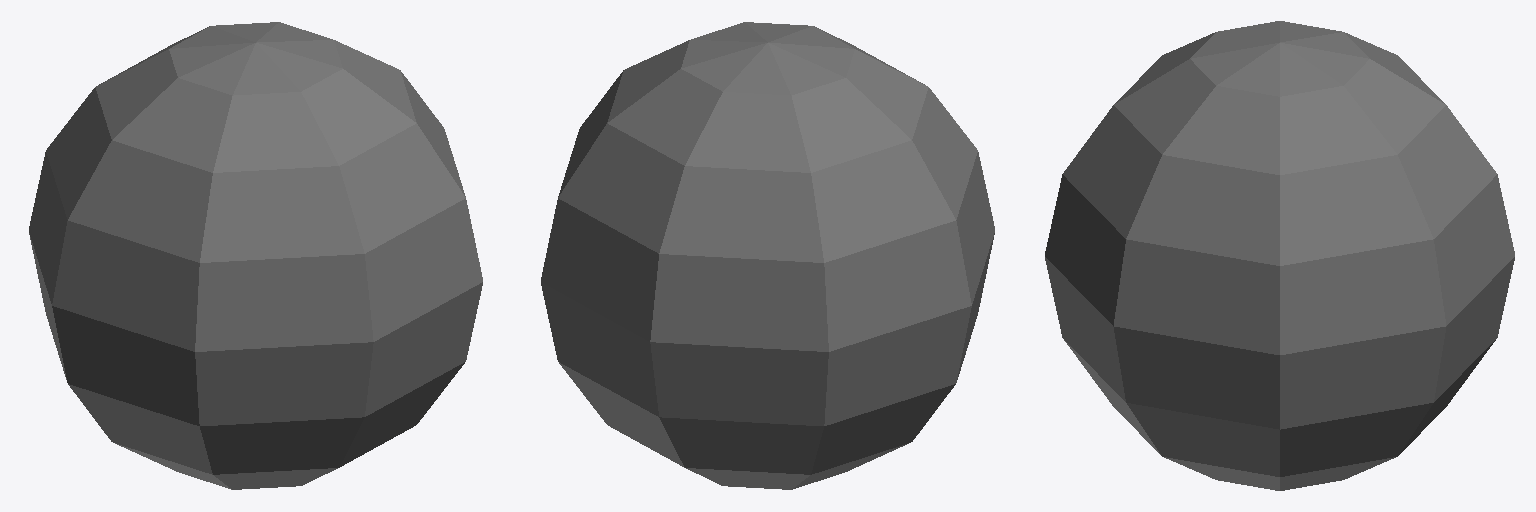
Rendered from area51_tower_gooTank_d1.obj.
3 views of the same model, side by side, from view 1: azimuth 30°, elevation 25°; view 2: azimuth 150°, elevation 25°; view 3: azimuth 270°, elevation 25° (orthographic).
Visible parts, largest first — view 1: forcefield group; view 2: forcefield group; view 3: forcefield group.
Part boxes in pixels (x1,y1,x2,y2): forcefield group: (29, 22, 482, 489); forcefield group: (541, 22, 994, 489); forcefield group: (1045, 21, 1514, 490).
Bounding box in the file's own units: 9.63 × 9.63 × 9.63.